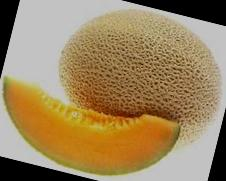Melon Ripe: (46, 0, 226, 157), (0, 74, 181, 181)
